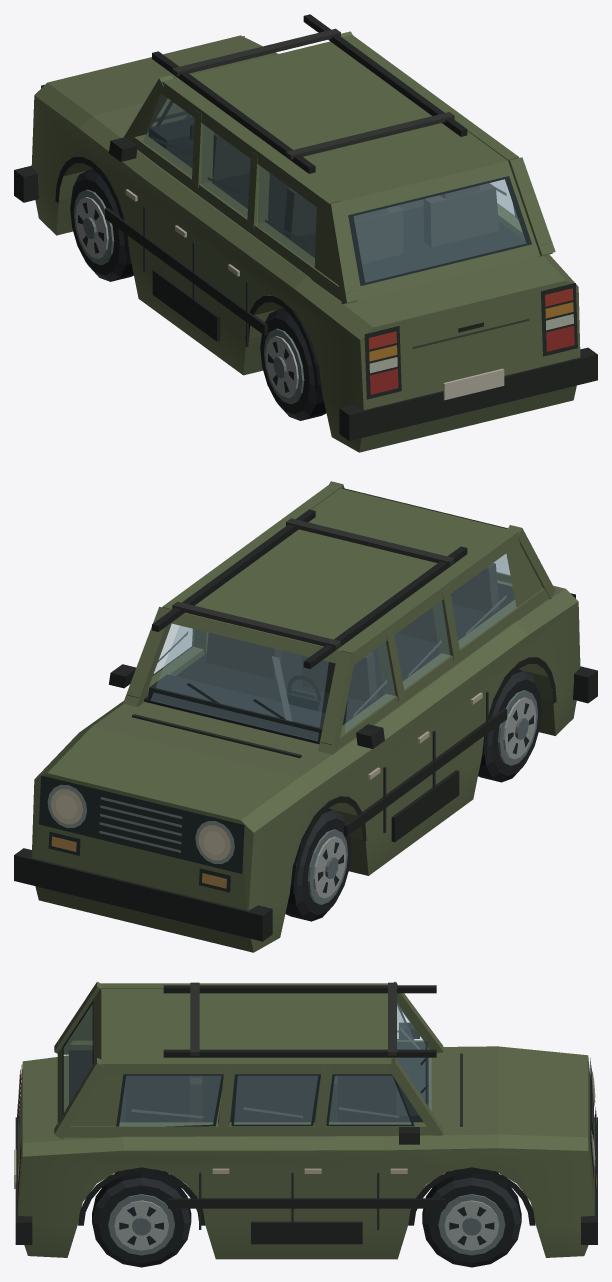
The model's file is suv.glb.
3 renders of one model, top to bottom at view 1: azimuth 30°, elevation 25°; view 2: azimuth 150°, elevation 25°; view 3: azimuth 270°, elevation 25°, orthographic. The views are drawn at different scales.
Parts seen in each view (by area): view 1: proposition_suv; view 2: proposition_suv; view 3: proposition_suv.
Boxes of the visible parts, x1,y1,x2,y2 form: proposition_suv: (14, 14, 597, 452); proposition_suv: (14, 481, 597, 952); proposition_suv: (14, 981, 597, 1267).
Size of the model in its own units: 2.04 by 1.72 by 4.49.
